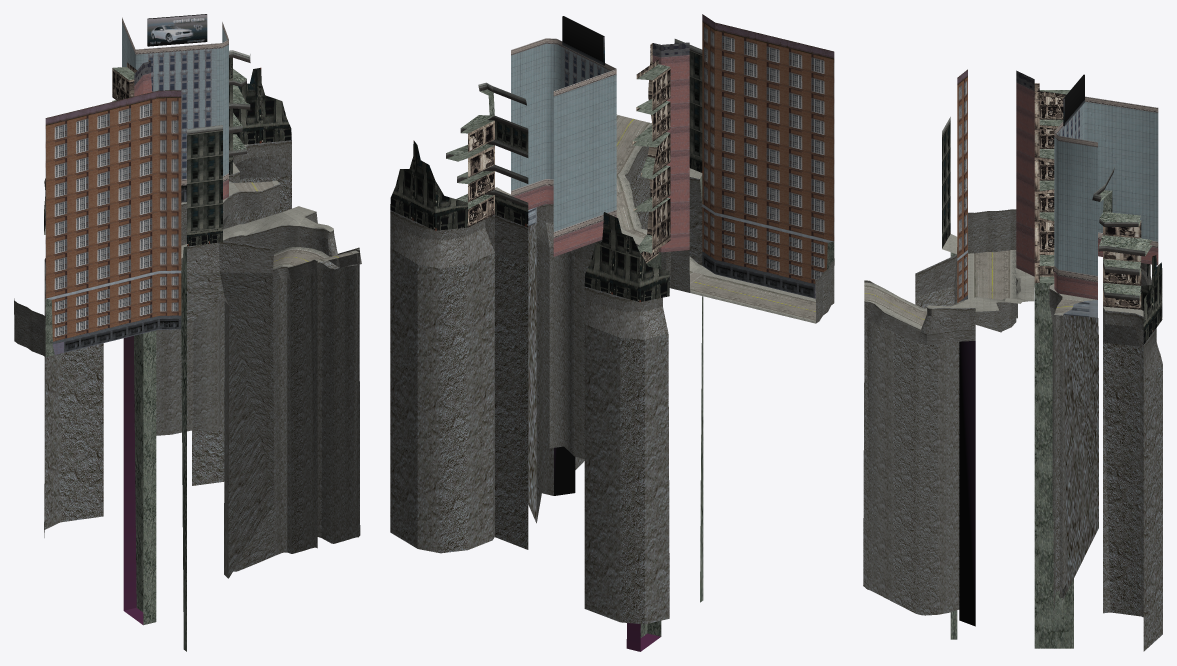
The model's file is STG0100_OS_22.fbx.
3 renders of one model, left to right at view 1: azimuth 30°, elevation 25°; view 2: azimuth 150°, elevation 25°; view 3: azimuth 270°, elevation 25°, orthographic. The views are drawn at different scales.
Parts seen in each view (by area): view 1: STG0100_OS_22_default; view 2: STG0100_OS_22_default; view 3: STG0100_OS_22_default.
Boxes of the visible parts, x1=… form: STG0100_OS_22_default: x1=14, y1=14, x2=361, y2=651; STG0100_OS_22_default: x1=390, y1=14, x2=834, y2=651; STG0100_OS_22_default: x1=863, y1=69, x2=1162, y2=651.
Bounding box in the file's own units: 1301 × 2119 × 989.
